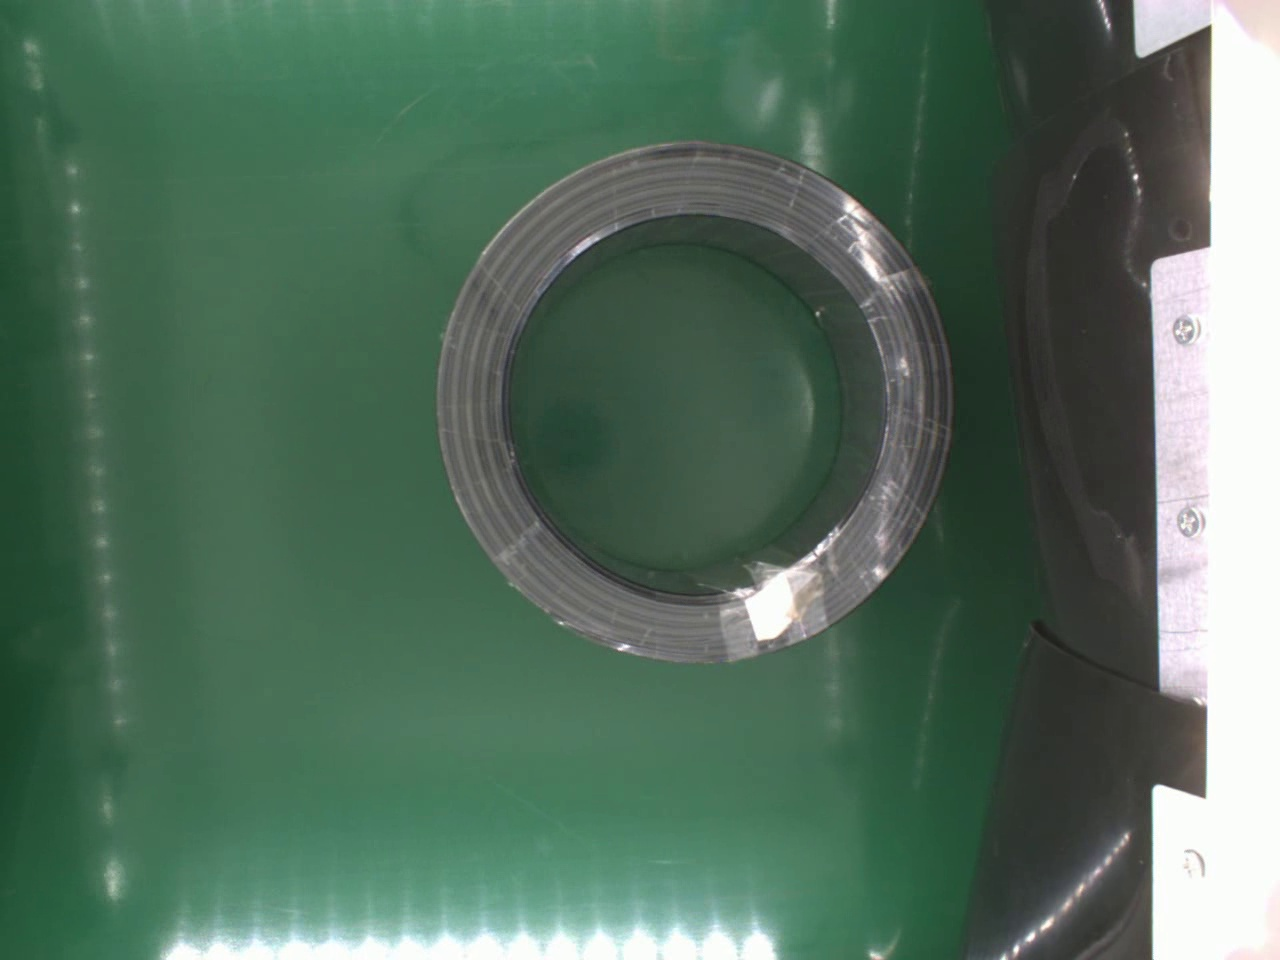black: (432, 139, 953, 670)
